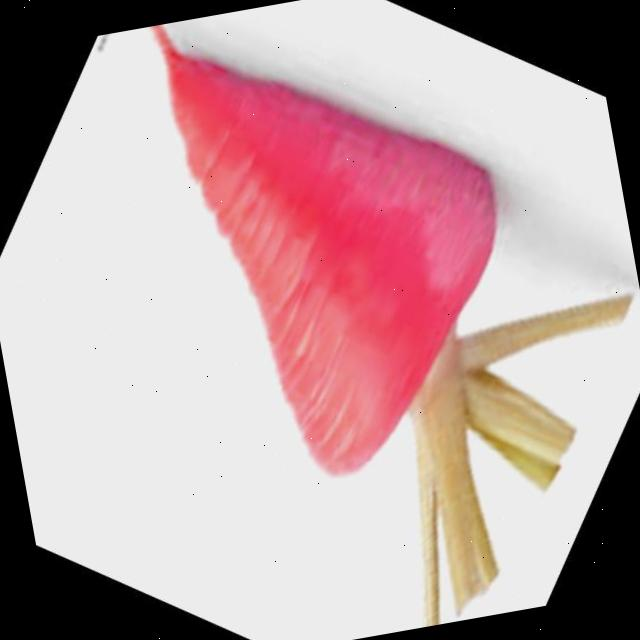carrot: (151, 24, 629, 626)
